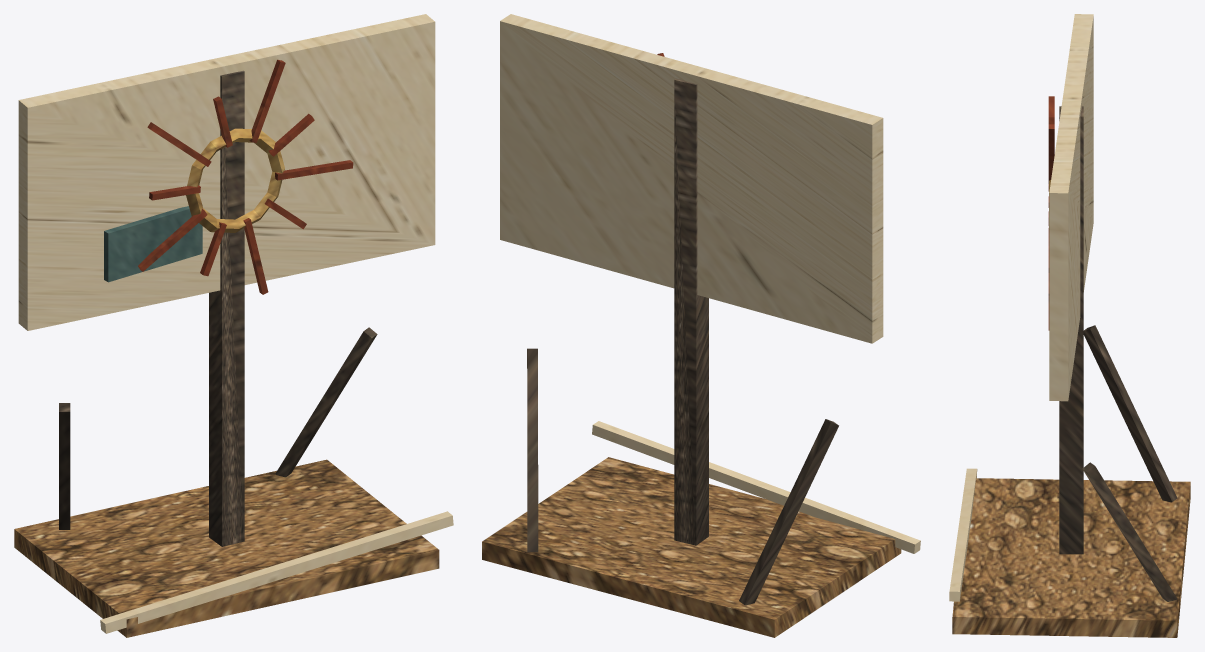
The model's file is west-starburst-billboard.glb.
The picture shows the model from 3 angles, left to right: view 1: azimuth 30°, elevation 25°; view 2: azimuth 150°, elevation 25°; view 3: azimuth 270°, elevation 25°; orthographic projection. The views are drawn at different scales.
Parts seen in each view (by area): view 1: west-starburst-billboard; view 2: west-starburst-billboard; view 3: west-starburst-billboard.
Boxes of the visible parts, bbox=[...] form: west-starburst-billboard: bbox=[14, 14, 453, 637]; west-starburst-billboard: bbox=[482, 14, 920, 637]; west-starburst-billboard: bbox=[949, 14, 1190, 637].
Size of the model in its own units: 4.9 by 5.9 by 2.79.
Materials: 1 (1 with a texture image).
